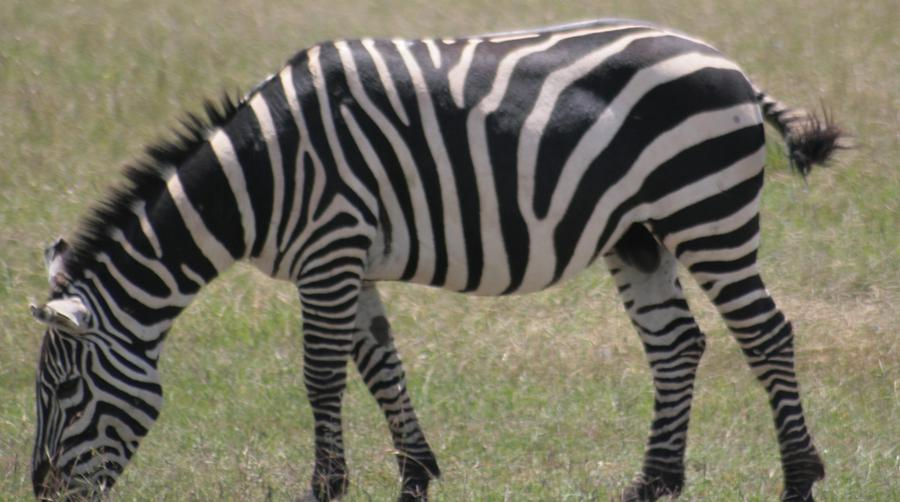zebra_plains: (261, 28, 763, 269)
